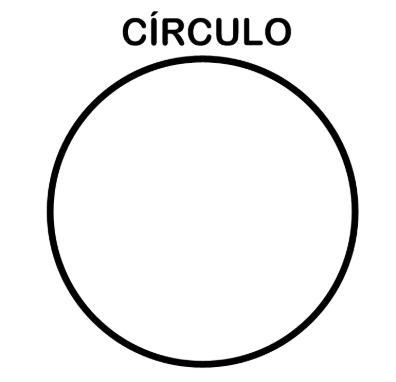circulo: (46, 55, 359, 368)
